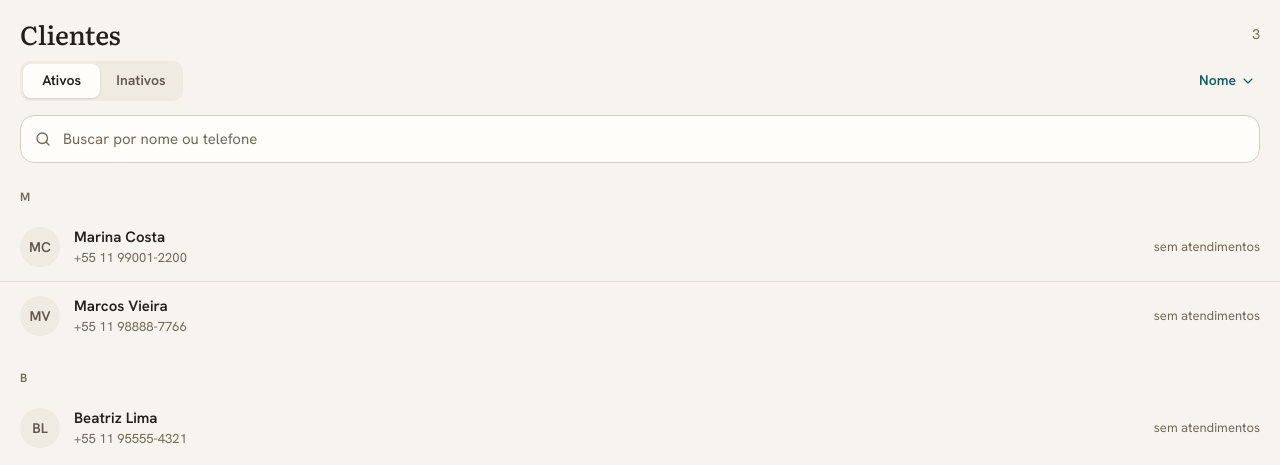
Test: CL3 — Clientes · busca › a linha de criação aparece também sem nenhum resultado
Type "zzz" into the search field.
click(640, 139); type("zzz")  # box [20,115,1260,163]
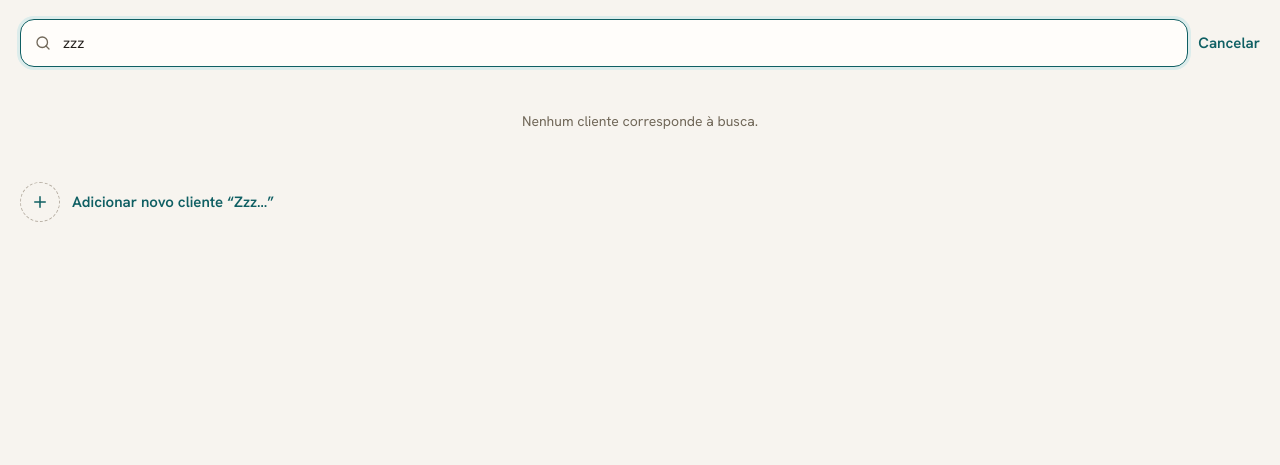
Now the text "Buscando clientes" is gone
Now the text "Nenhum cliente corresponde à busca." is shown, box [522,112,758,130]
